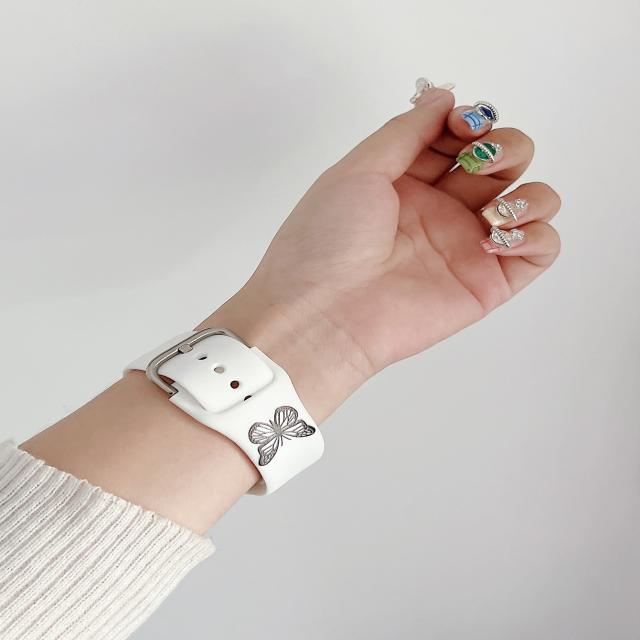bracelet: (137, 259, 385, 512)
